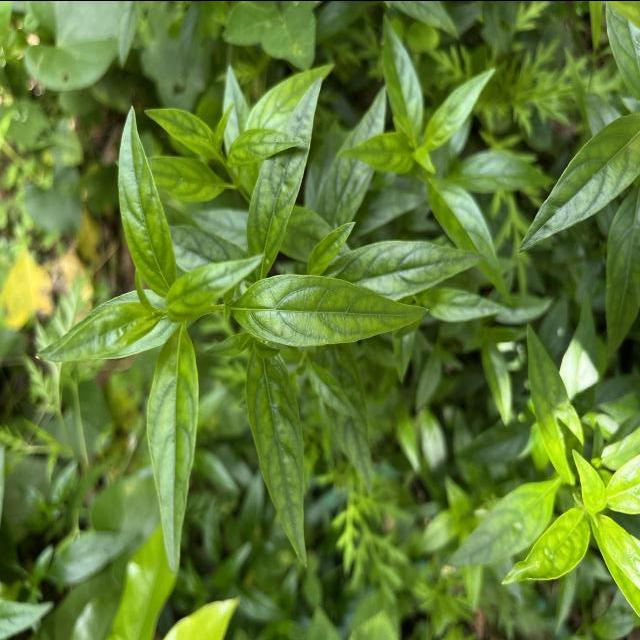Andrographis paniculata: (515, 110, 640, 252), (244, 75, 323, 274), (228, 272, 431, 348), (243, 350, 311, 572), (144, 322, 201, 575), (424, 176, 514, 308), (116, 102, 180, 286), (34, 288, 172, 364), (524, 318, 586, 484), (327, 237, 487, 300), (500, 503, 592, 588), (603, 183, 640, 360), (423, 65, 498, 149), (380, 11, 424, 136), (142, 105, 223, 158), (337, 129, 415, 174), (227, 126, 306, 166)
